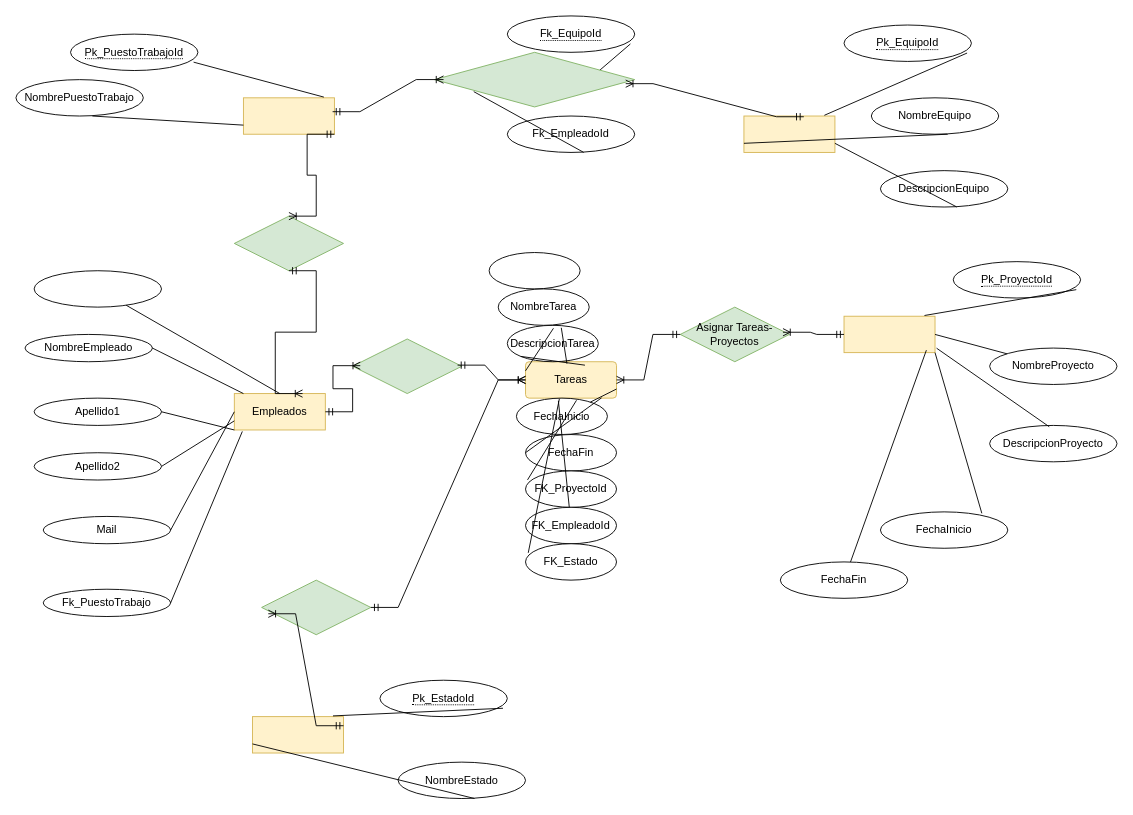
Image size: 1133x815. Some labels were removed from this diagram. The shapes that lost their labels are listed below. From the top down, each one's centre as x and y in pixels, then its label:
At (534,79): "Asignar-Equipos-Empleados".
At (288,115): "PuestosTrabajo".
At (789,133): "Equipos".
At (288,243): "Asignar Puestos-Empleados".
At (97,288): "Pk_EmpleadoId".
At (534,270): "PK_TareaId".
At (889,334): "Proyectos".
At (407,366): "Asignar-Empleado-Tarea".
At (316,607): "Asignar Estados-Tareas".
At (298,734): "Estados".
